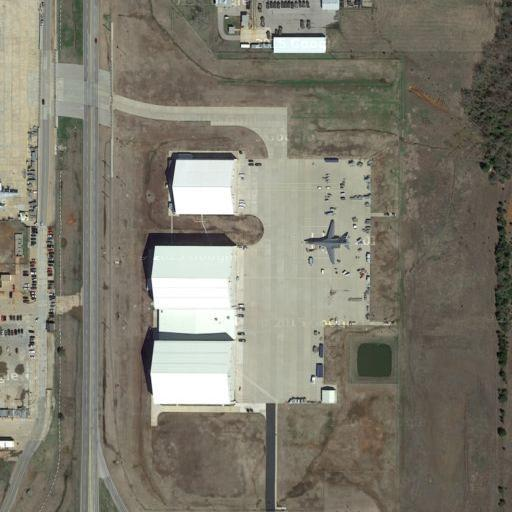B-1B: (299, 217, 351, 267)
